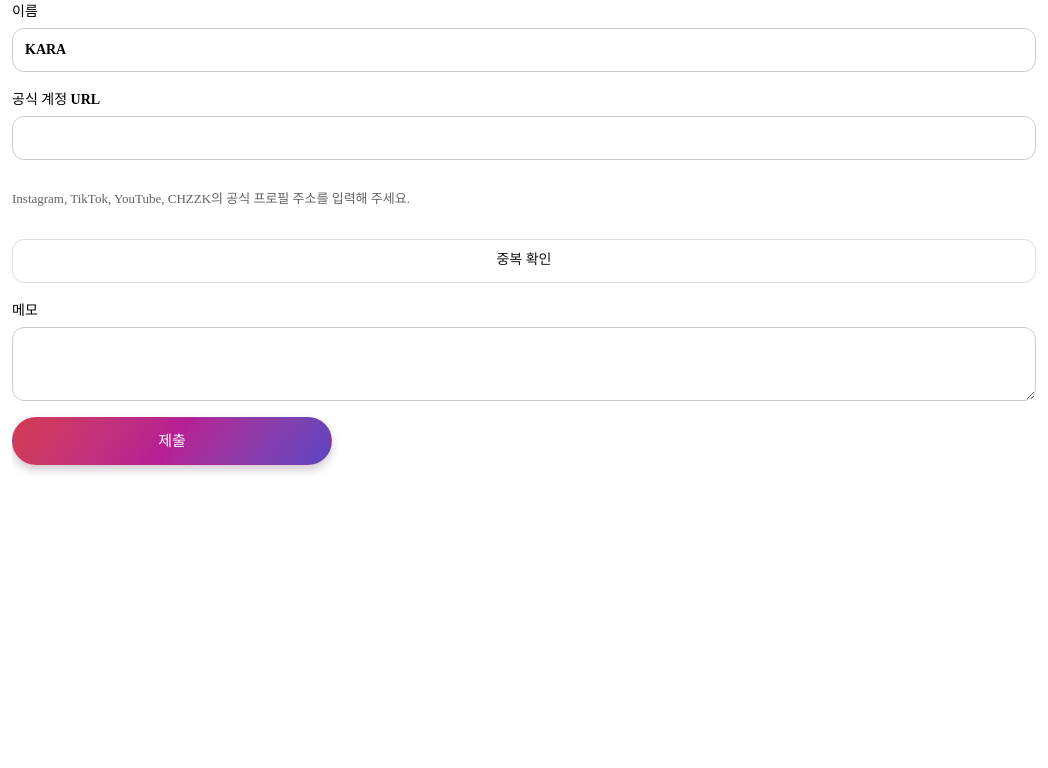
Test: explains and focuses an unsupported official profile URL without clearing it
Type "https://instagram.com/p/post" into the field labelled "공식 계정 URL". click: (524, 138)
box: x1=12 y1=116 x2=1036 y2=160
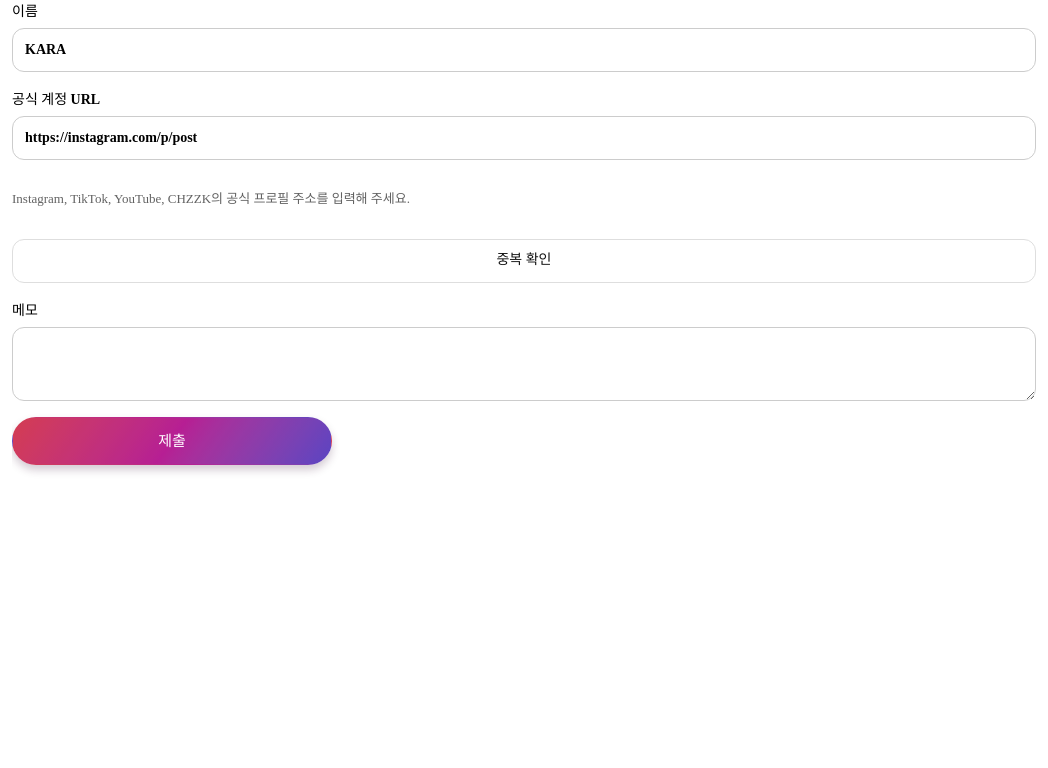
Click the button "중복 확인". click: (524, 261)
box: x1=12 y1=239 x2=1036 y2=283
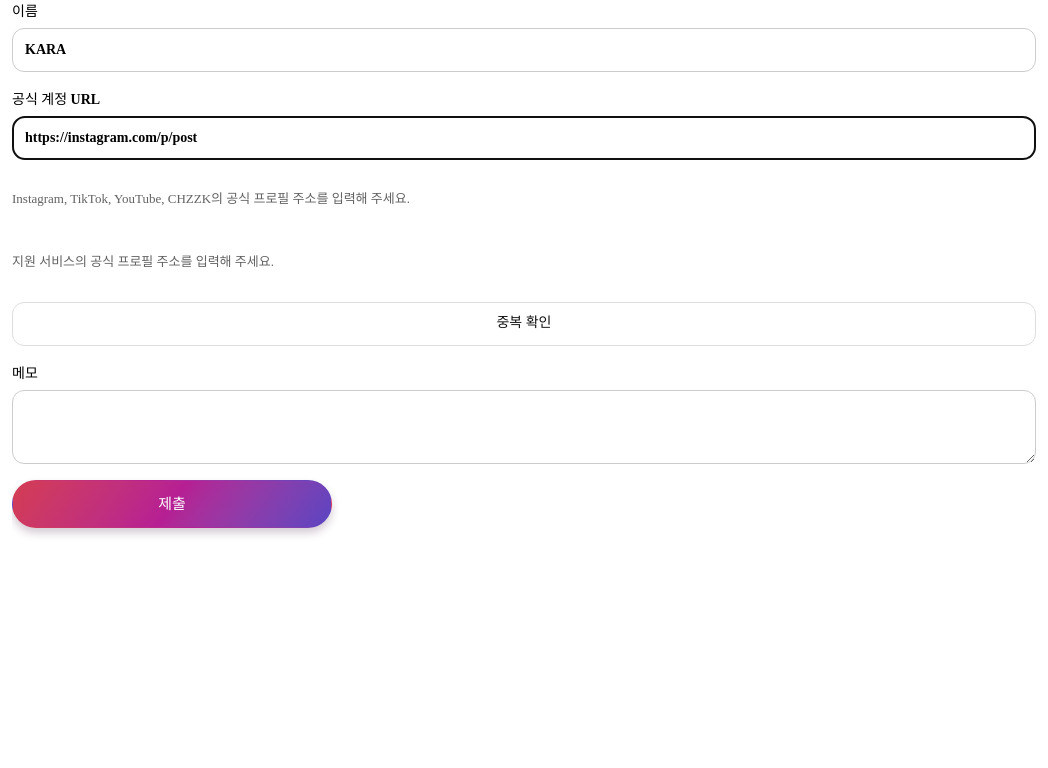
expect the text "지원 서비스의 공식 프로필 주소를 입력해 주세요." is shown: met, box x1=12 y1=254 x2=274 y2=269
